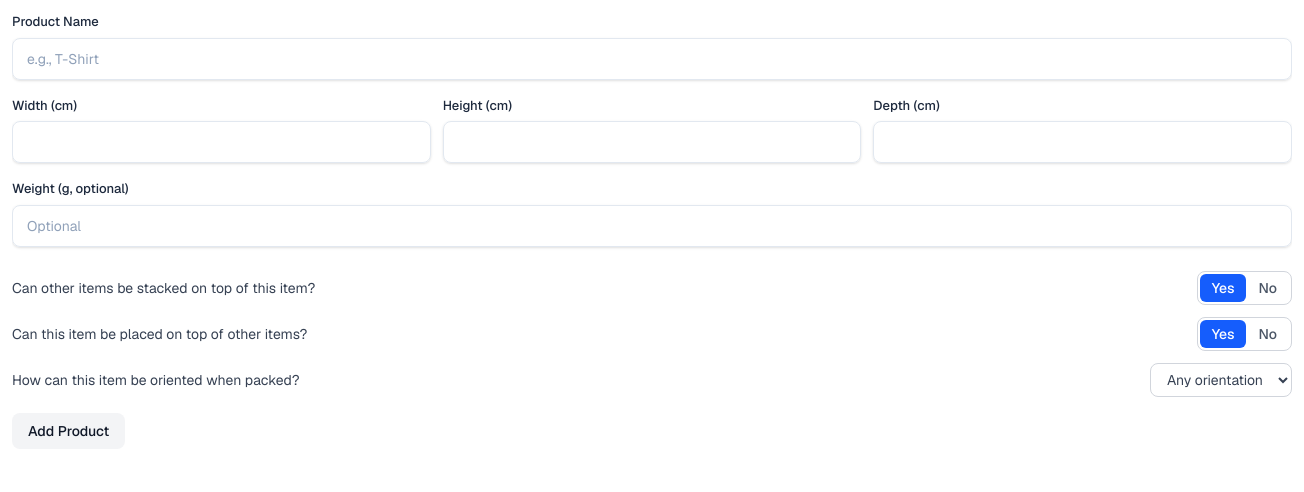
ProductForm › shows field-level validation errors for empty dimensions
Click the button "Add Product" at (69,430), box [12,412,125,448]
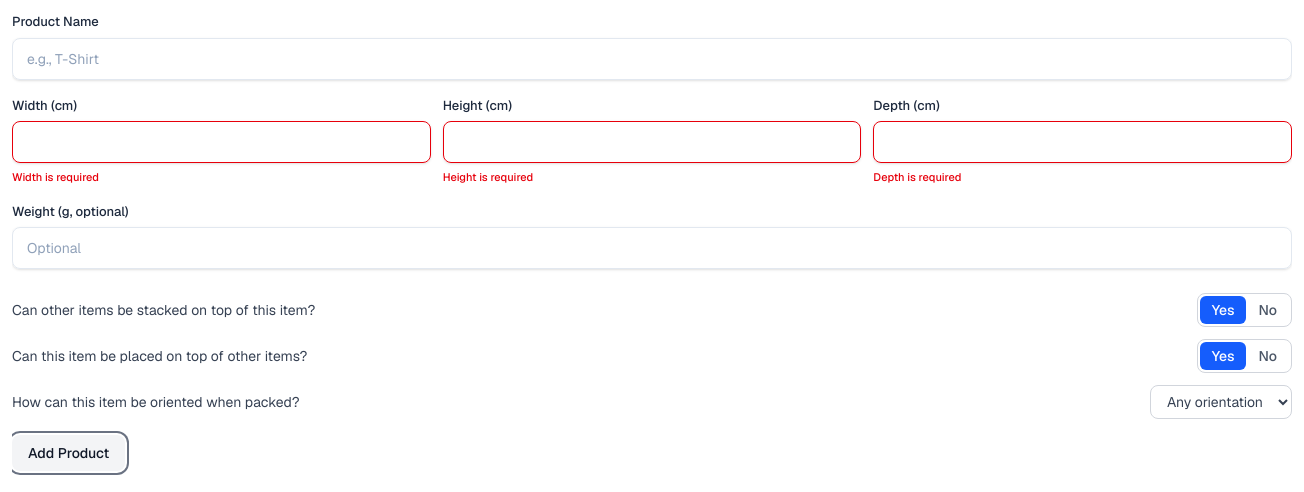
Expected: the text "Width is required" is shown, [12,170,99,184]
Expected: the text "Height is required" is shown, [443,170,533,184]
Expected: the text "Depth is required" is shown, [873,170,961,184]
